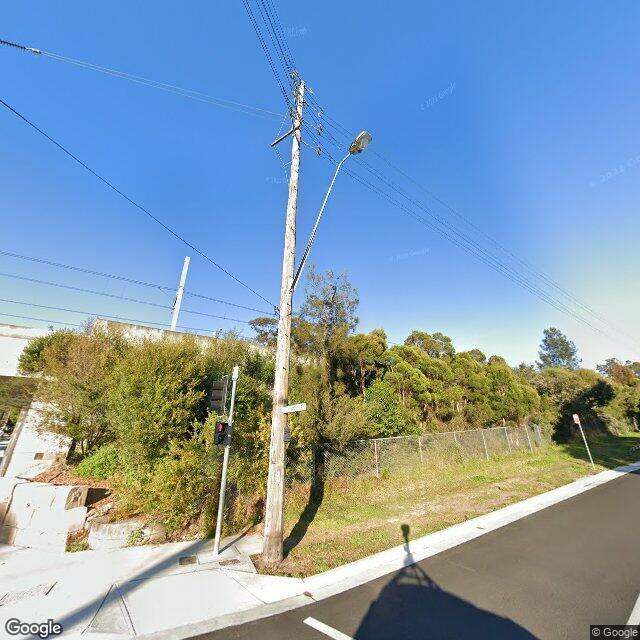HV-transmission: (272, 69, 323, 154)
steel-pole: (214, 364, 239, 555)
streetlight: (289, 130, 373, 294)
timber-pole: (263, 80, 305, 564), (170, 256, 191, 331)
traffic-light: (210, 375, 228, 417), (214, 421, 228, 445)
